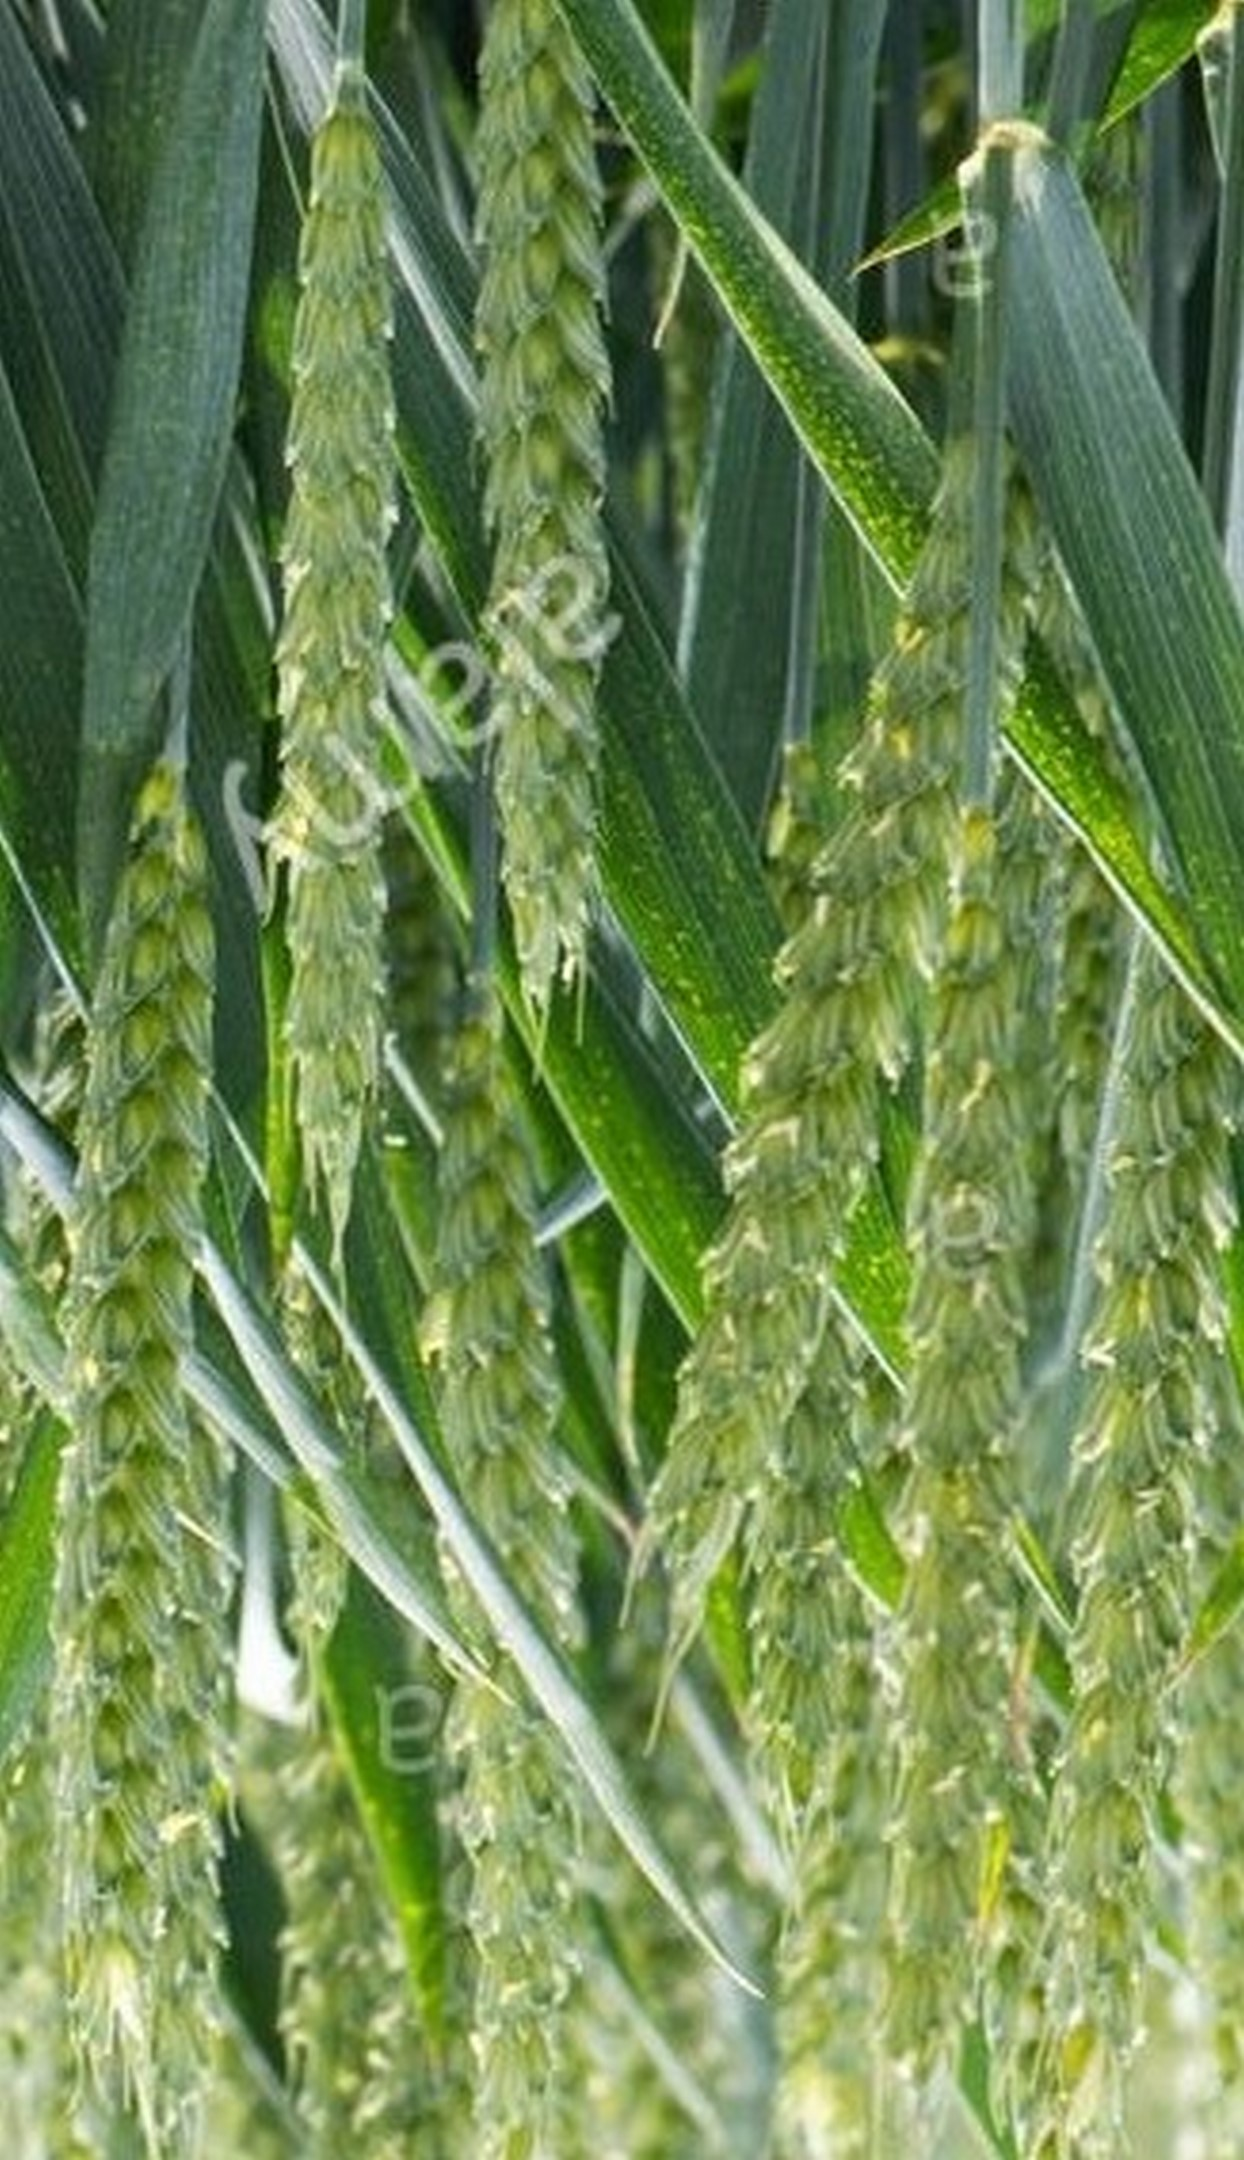Healthy Wheat: (639, 540, 1014, 1590), (36, 800, 234, 1939)
